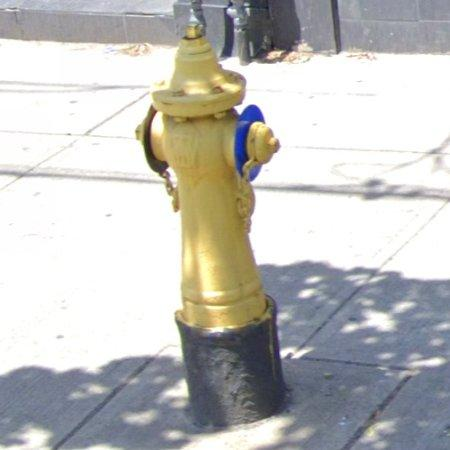a fire hydrant: (137, 15, 285, 428)
